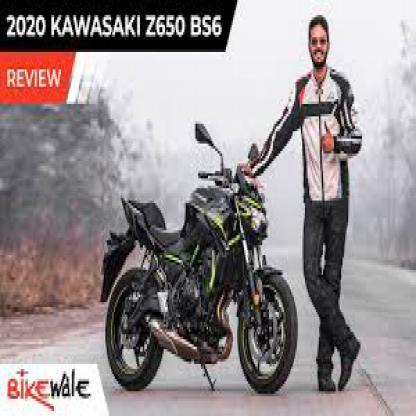Motorcycle: (99, 149, 299, 400)
